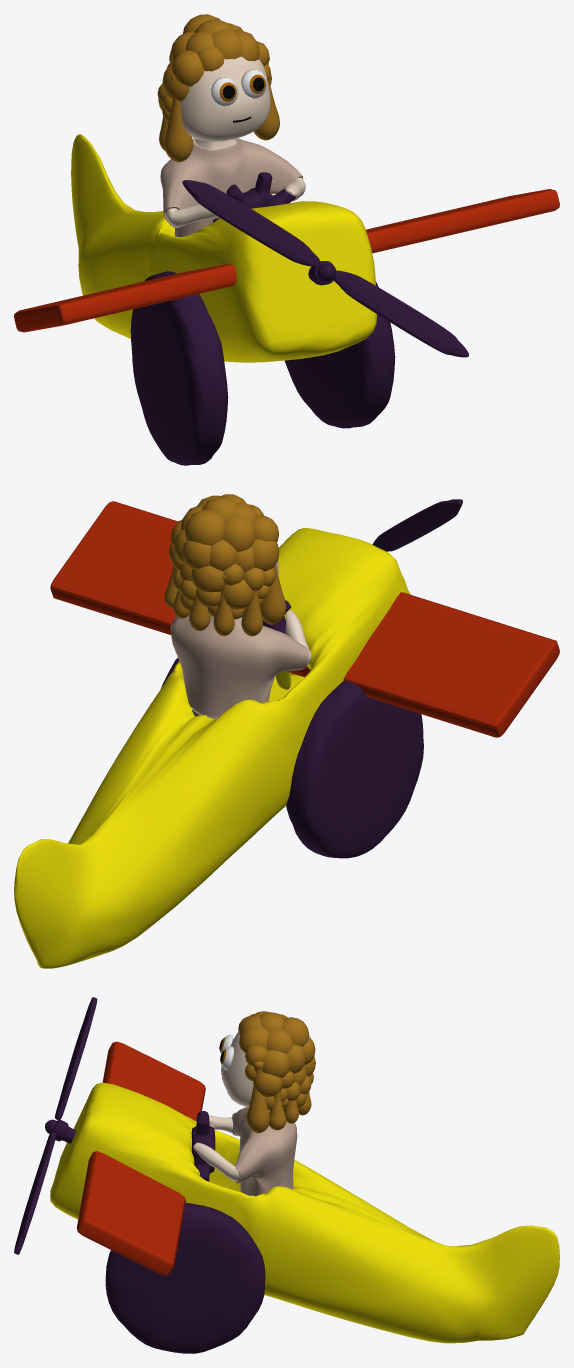
Rendered from YehudaISHKRAYOTplane.fbx.
3 views of the same model, one above another, from view 1: azimuth 30°, elevation 25°; view 2: azimuth 150°, elevation 25°; view 3: azimuth 270°, elevation 25° (orthographic). The views are drawn at different scales.
Parts seen in each view (by area): view 1: polySurface55, CharacterBoard:pSphere56; view 2: polySurface55, CharacterBoard:pSphere56; view 3: polySurface55, CharacterBoard:pSphere56.
Part boxes in pixels (left/top/right/bottom): polySurface55: left=14, top=134, right=559, bottom=465; CharacterBoard:pSphere56: left=157, top=14, right=305, bottom=237; polySurface55: left=14, top=499, right=559, bottom=968; CharacterBoard:pSphere56: left=164, top=494, right=311, bottom=719; polySurface55: left=14, top=997, right=559, bottom=1353; CharacterBoard:pSphere56: left=193, top=1011, right=315, bottom=1196.
Size of the model in its own units: 4.56 by 3.42 by 5.4.
